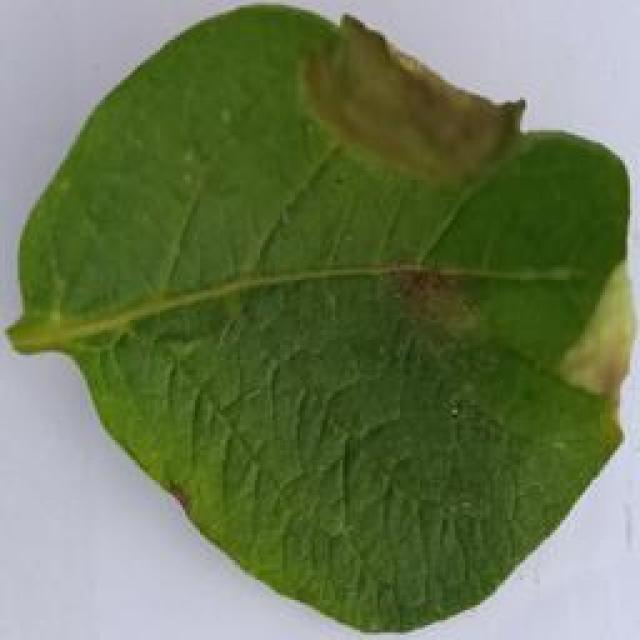Potato_Late_Blight: (22, 17, 640, 624)
